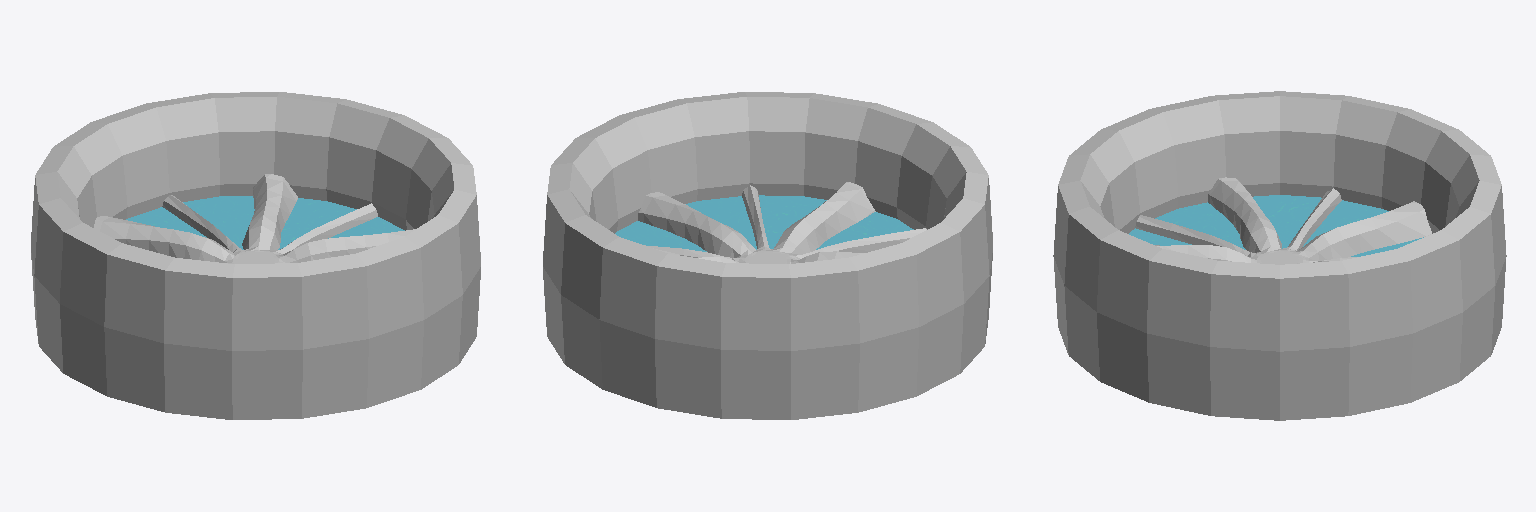
3 views of the same model, side by side, from view 1: azimuth 30°, elevation 25°; view 2: azimuth 150°, elevation 25°; view 3: azimuth 270°, elevation 25° (orthographic).
Parts seen in each view (by area): view 1: Circle.009, Circle.005, Circle.007; view 2: Circle.009, Circle.005, Circle.007; view 3: Circle.009, Circle.005, Circle.007.
Part boxes in pixels (left/top/right/bottom): Circle.009: left=31, top=92, right=480, bottom=419; Circle.005: left=94, top=174, right=415, bottom=263; Circle.007: left=126, top=196, right=404, bottom=249; Circle.009: left=543, top=92, right=992, bottom=419; Circle.005: left=638, top=182, right=926, bottom=263; Circle.007: left=615, top=195, right=913, bottom=251; Circle.009: left=1053, top=91, right=1506, bottom=420; Circle.005: left=1135, top=177, right=1431, bottom=264; Circle.007: left=1129, top=195, right=1423, bottom=256.
Bounding box in the file's own units: 0.91 × 0.3346 × 0.9096.
4 materials, 1 textured.